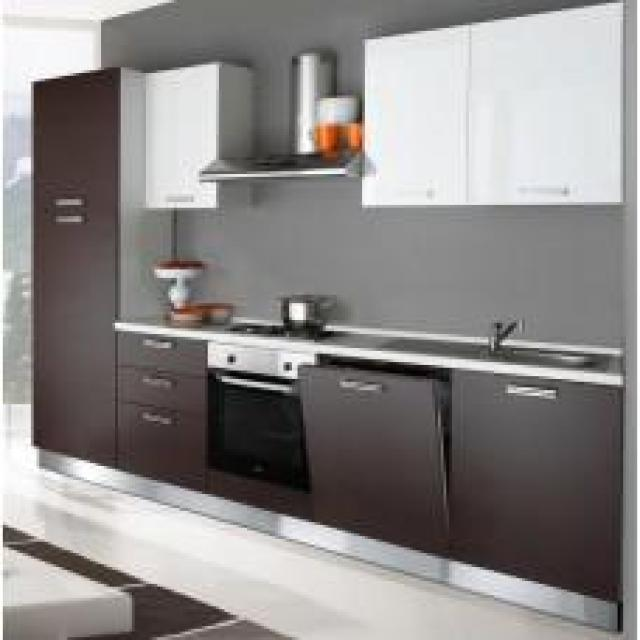dishwasher: (294, 345, 458, 564)
